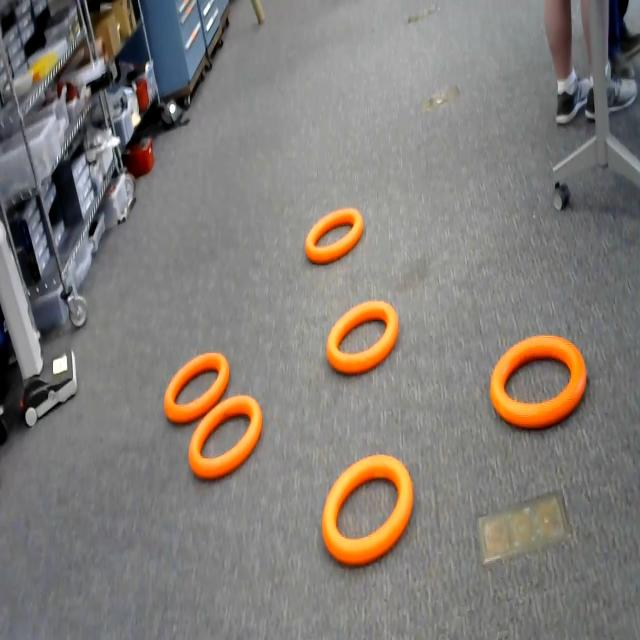note: (315, 450, 417, 572), (490, 332, 590, 435), (183, 390, 264, 487), (326, 296, 403, 378), (166, 353, 231, 422), (304, 206, 368, 263)
